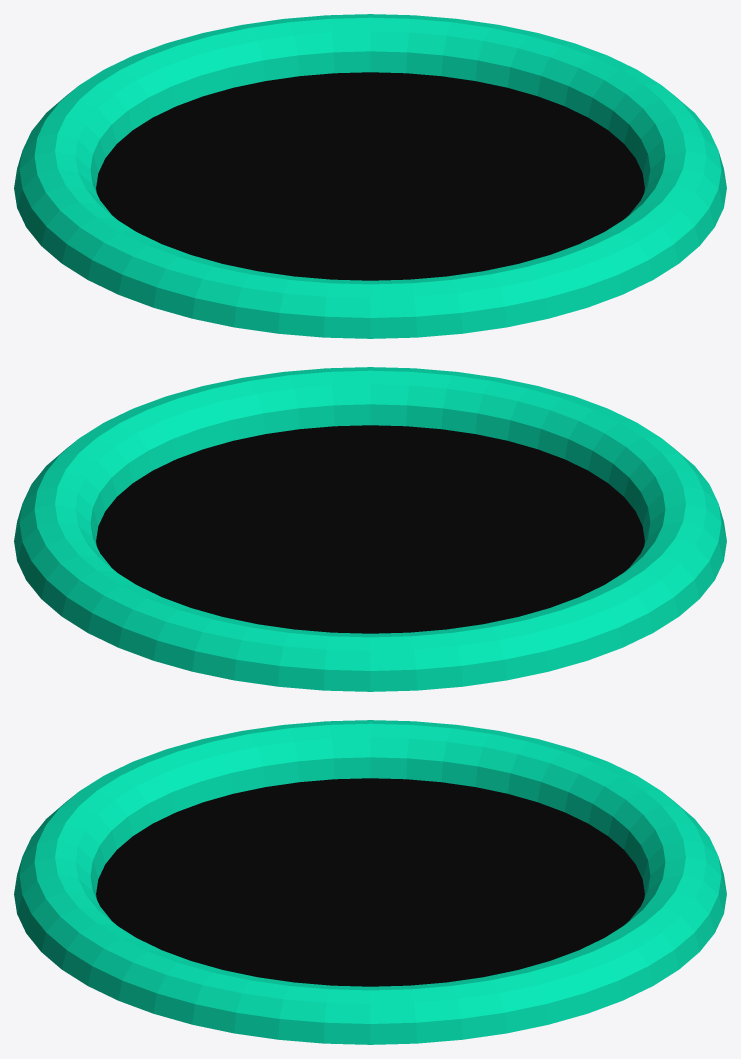
Rendered from hoyo.glb.
The picture shows the model from 3 angles, top to bottom: view 1: azimuth 30°, elevation 25°; view 2: azimuth 150°, elevation 25°; view 3: azimuth 270°, elevation 25°; orthographic projection.
Visible parts, largest first — view 1: Torus.002; view 2: Torus.002; view 3: Torus.002.
Boxes of the visible parts, <box> form: Torus.002: <box>14,14,726,338</box>; Torus.002: <box>14,367,726,691</box>; Torus.002: <box>14,720,726,1044</box>.
Bounding box in the file's own units: 2.26 × 0.13 × 2.26.
